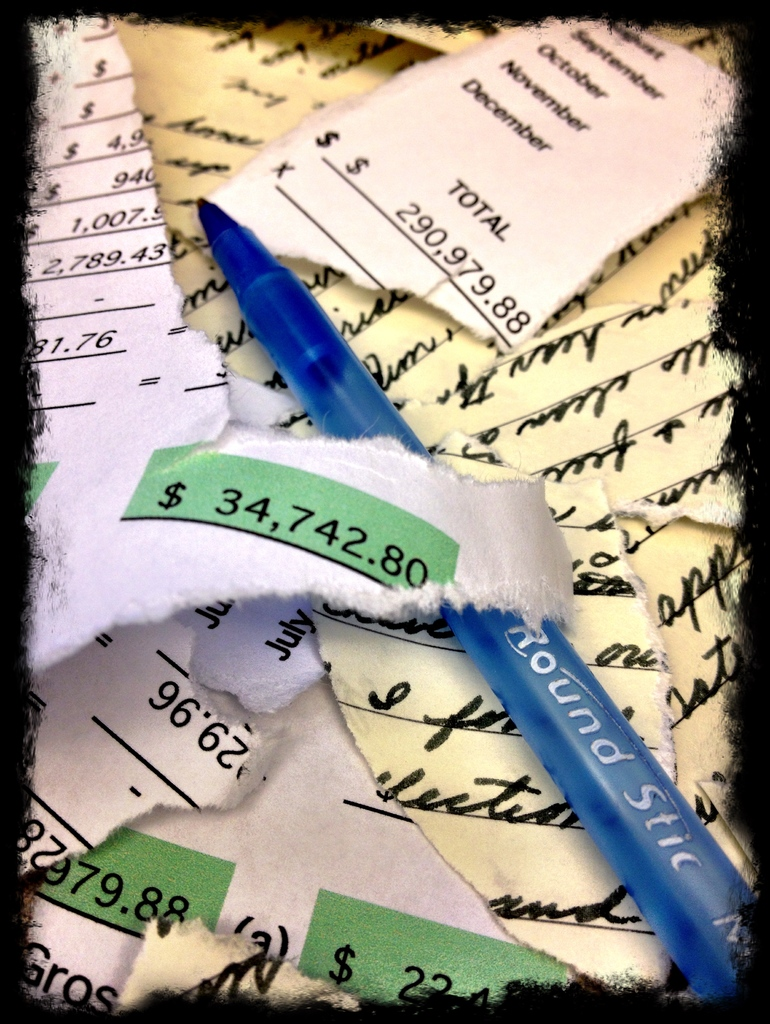Pen: (193, 195, 765, 1014)
